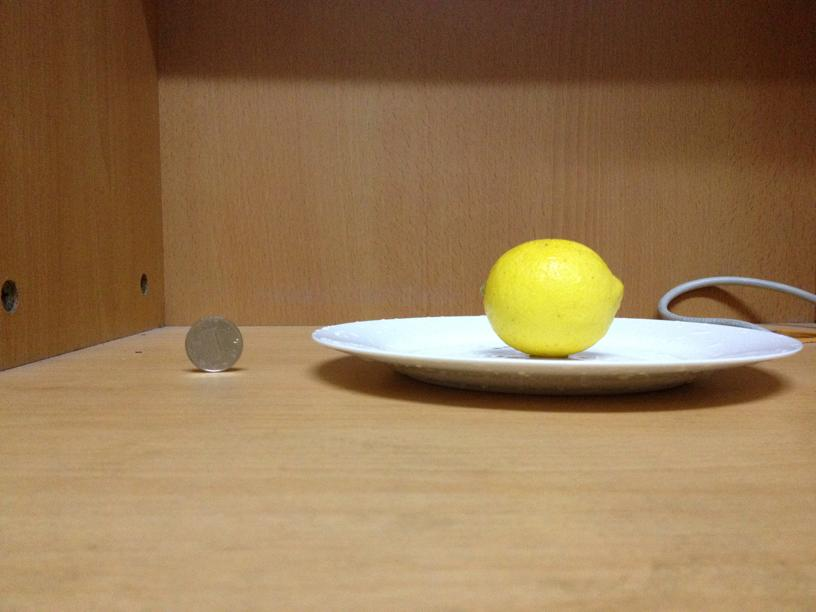coin: (184, 315, 243, 373)
lemon: (482, 237, 624, 355)
